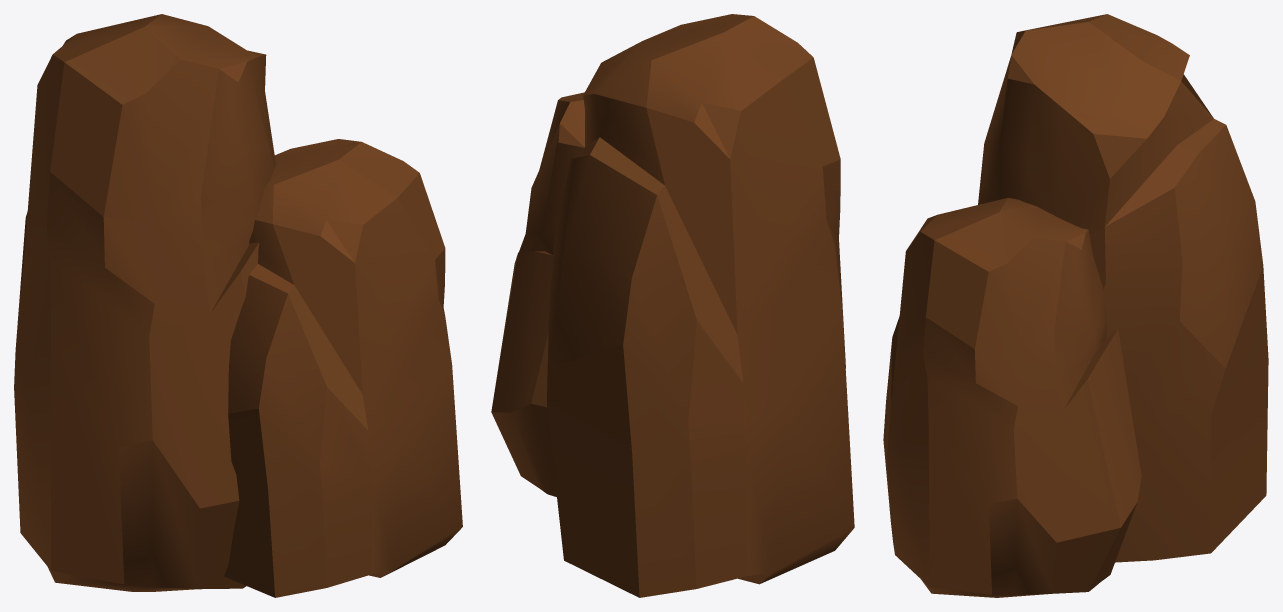
File: rock-large-3.glb
The picture shows the model from 3 angles, left to right: view 1: azimuth 30°, elevation 25°; view 2: azimuth 150°, elevation 25°; view 3: azimuth 270°, elevation 25°; orthographic projection. The views are drawn at different scales.
Parts seen in each view (by area): view 1: Rock_Large_3; view 2: Rock_Large_3; view 3: Rock_Large_3.
Part boxes in pixels (x1,y1,x2,y2): Rock_Large_3: (14, 14, 462, 597); Rock_Large_3: (491, 14, 854, 597); Rock_Large_3: (883, 14, 1268, 597).
Size of the model in its own units: 5.31 by 7.43 by 5.19.
